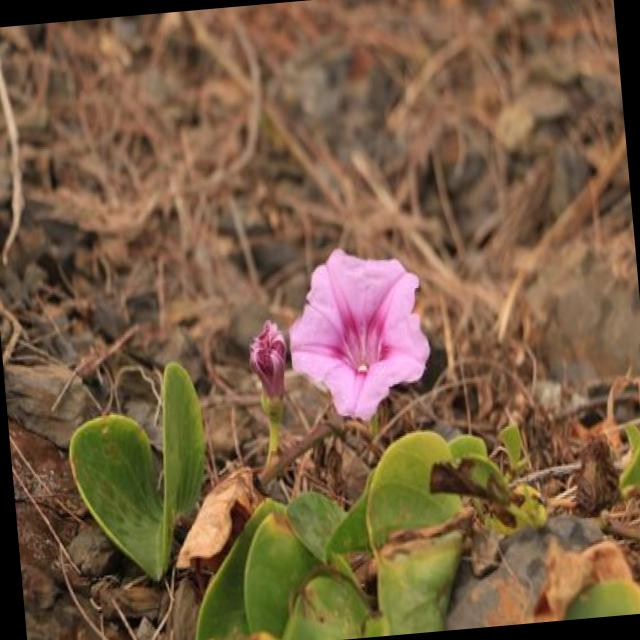ipomoea: (278, 236, 439, 432), (242, 314, 294, 408)
